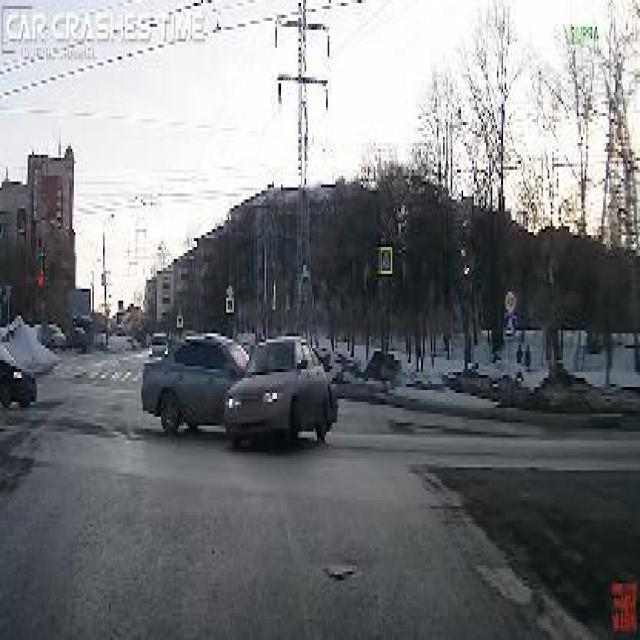accident: (132, 289, 342, 485)
